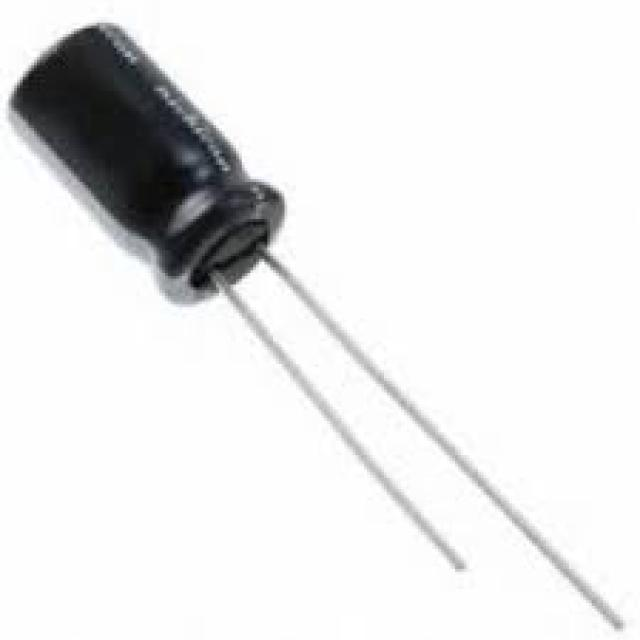Capacitor: (9, 23, 626, 631)
